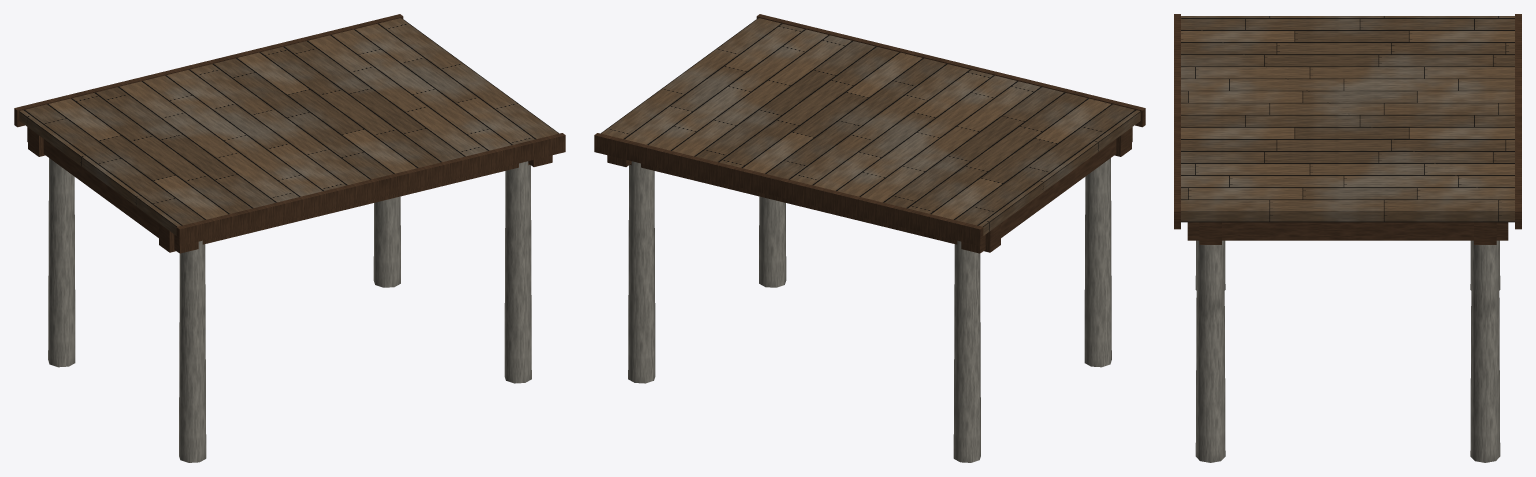
The model's file is SM_Art_Pier_405x300x100_P250.gltf.
3 views of the same model, side by side, from view 1: azimuth 30°, elevation 25°; view 2: azimuth 150°, elevation 25°; view 3: azimuth 270°, elevation 25° (orthographic). The views are drawn at different scales.
Parts seen in each view (by area): view 1: SM_Art_Pier_405x300x100_P250; view 2: SM_Art_Pier_405x300x100_P250; view 3: SM_Art_Pier_405x300x100_P250.
Part boxes in pixels (box(x1,y1,x2,y2)): SM_Art_Pier_405x300x100_P250: box(14, 14, 565, 462); SM_Art_Pier_405x300x100_P250: box(594, 14, 1145, 462); SM_Art_Pier_405x300x100_P250: box(1174, 14, 1521, 462).
Bounding box in the file's own units: 4.09 × 2.51 × 3.04.
3 materials, 3 textured.
